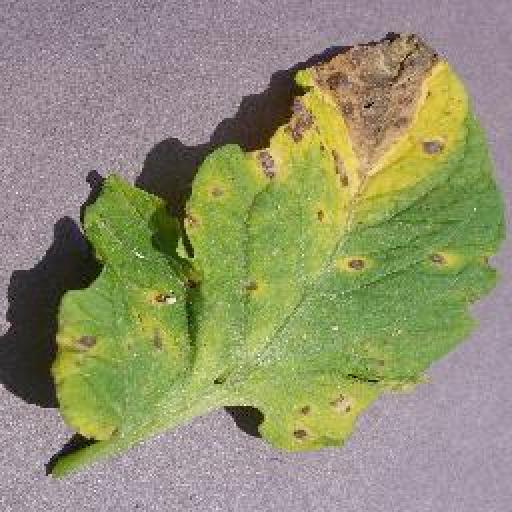disease_tomato: (56, 30, 506, 446)
